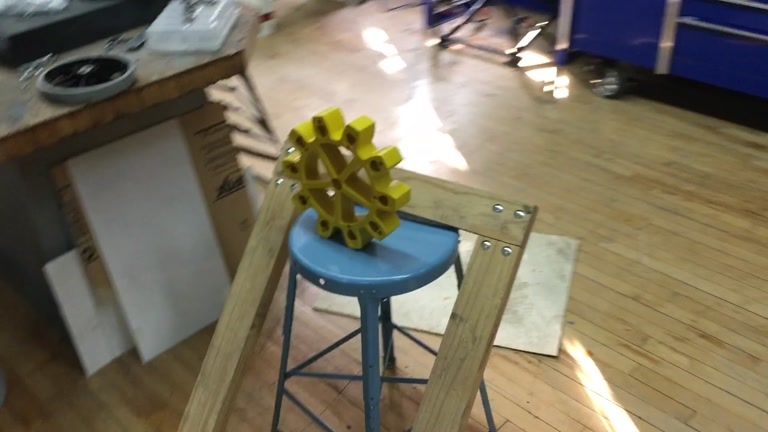gear: (283, 110, 414, 251)
